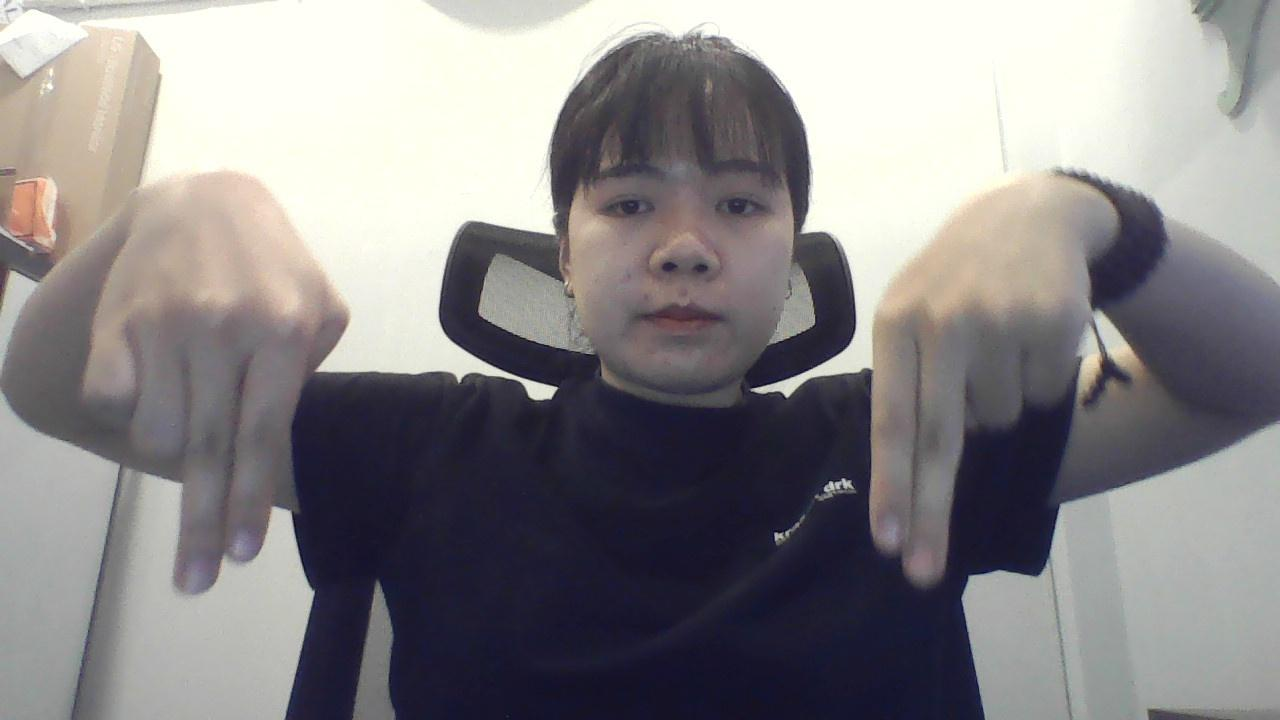N: (77, 189, 349, 599), (860, 192, 1091, 603)
